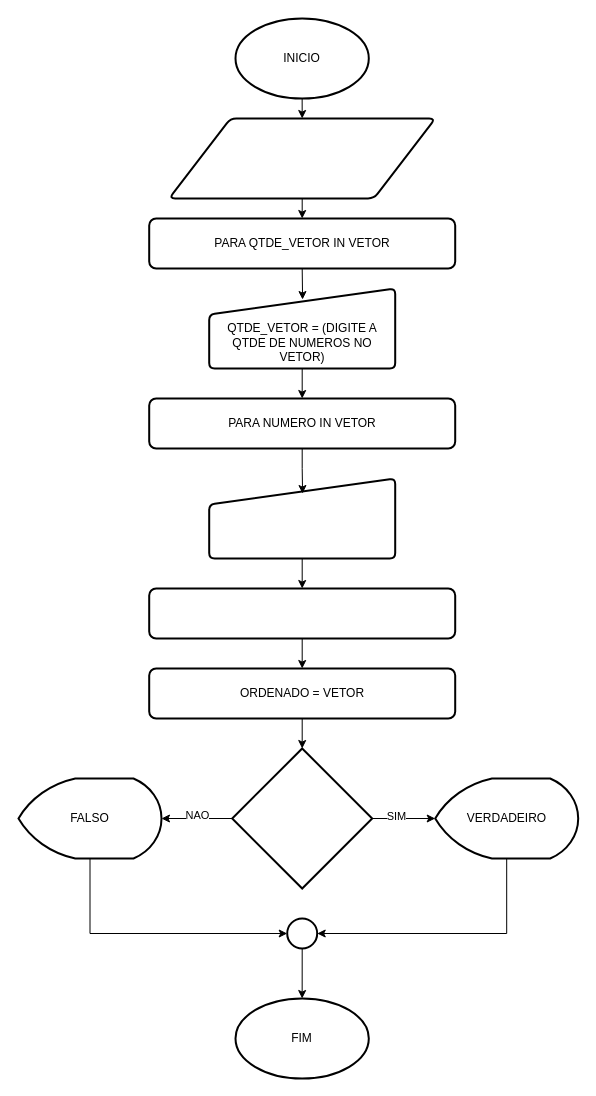
The diagram is 596 pixels wide and 1096 high, and some of its shapes have lost their labels. Here are the shapes that lost their labels. From the top down, the box of each, then its label:
(168, 117, 436, 199): VETOR = [ ] ODENADO NUMERO QTDE_VETOR
(208, 477, 396, 559): NUMERO = (DIGITE OS NUMEROS)
(148, 587, 456, 639): VETOR = VETOR.APPEND(NUMERO) NUMERO + 1
(231, 747, 373, 889): VETOR ESTÁ EM ORDEM CRESCENTE?
